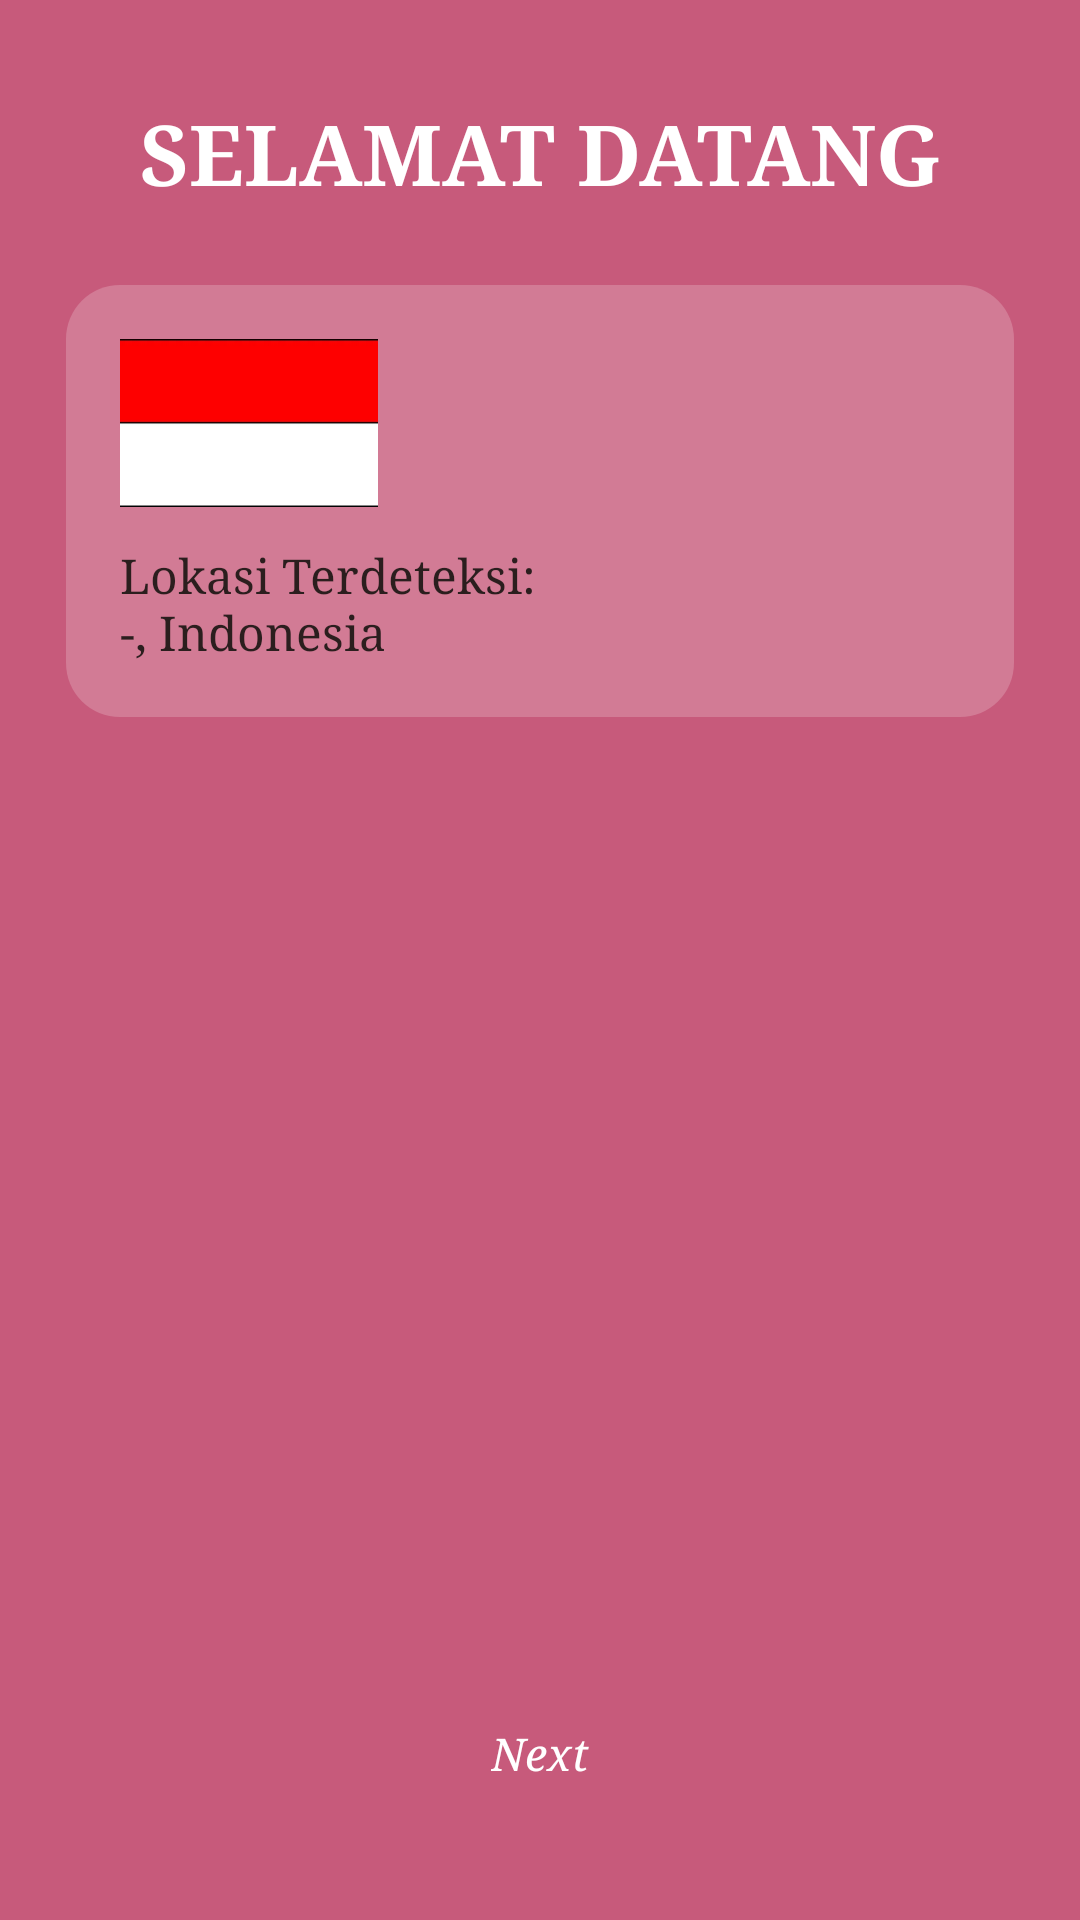

Icon bounding boxes for this 1080px x 1920px phone screenshot, format [left=x1, top=y1, right=x2, bottom=y2]:
Bendera: [left=120, top=339, right=378, bottom=507]
